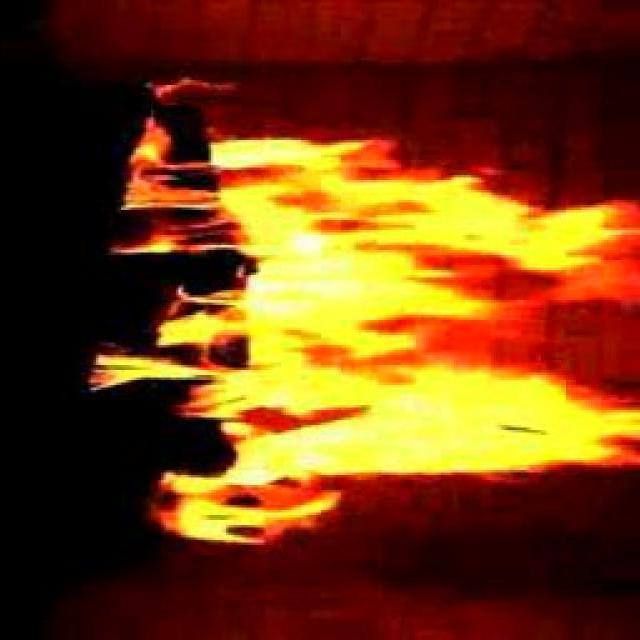Fire: (153, 162, 588, 530)
